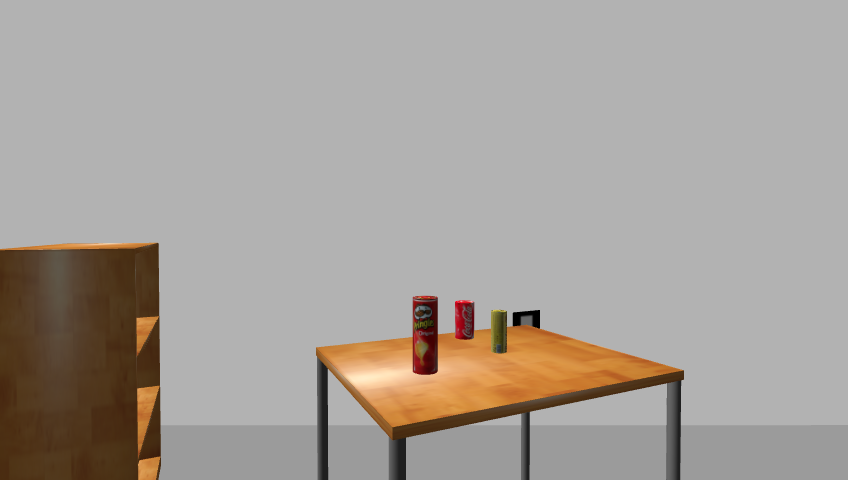aruco marker: (508, 309, 544, 332)
biscuits pack: (491, 309, 508, 355)
bookshelf: (0, 242, 168, 479)
coke can: (453, 301, 475, 340)
dinner table: (307, 328, 692, 480)
pringles can: (410, 295, 440, 377)
